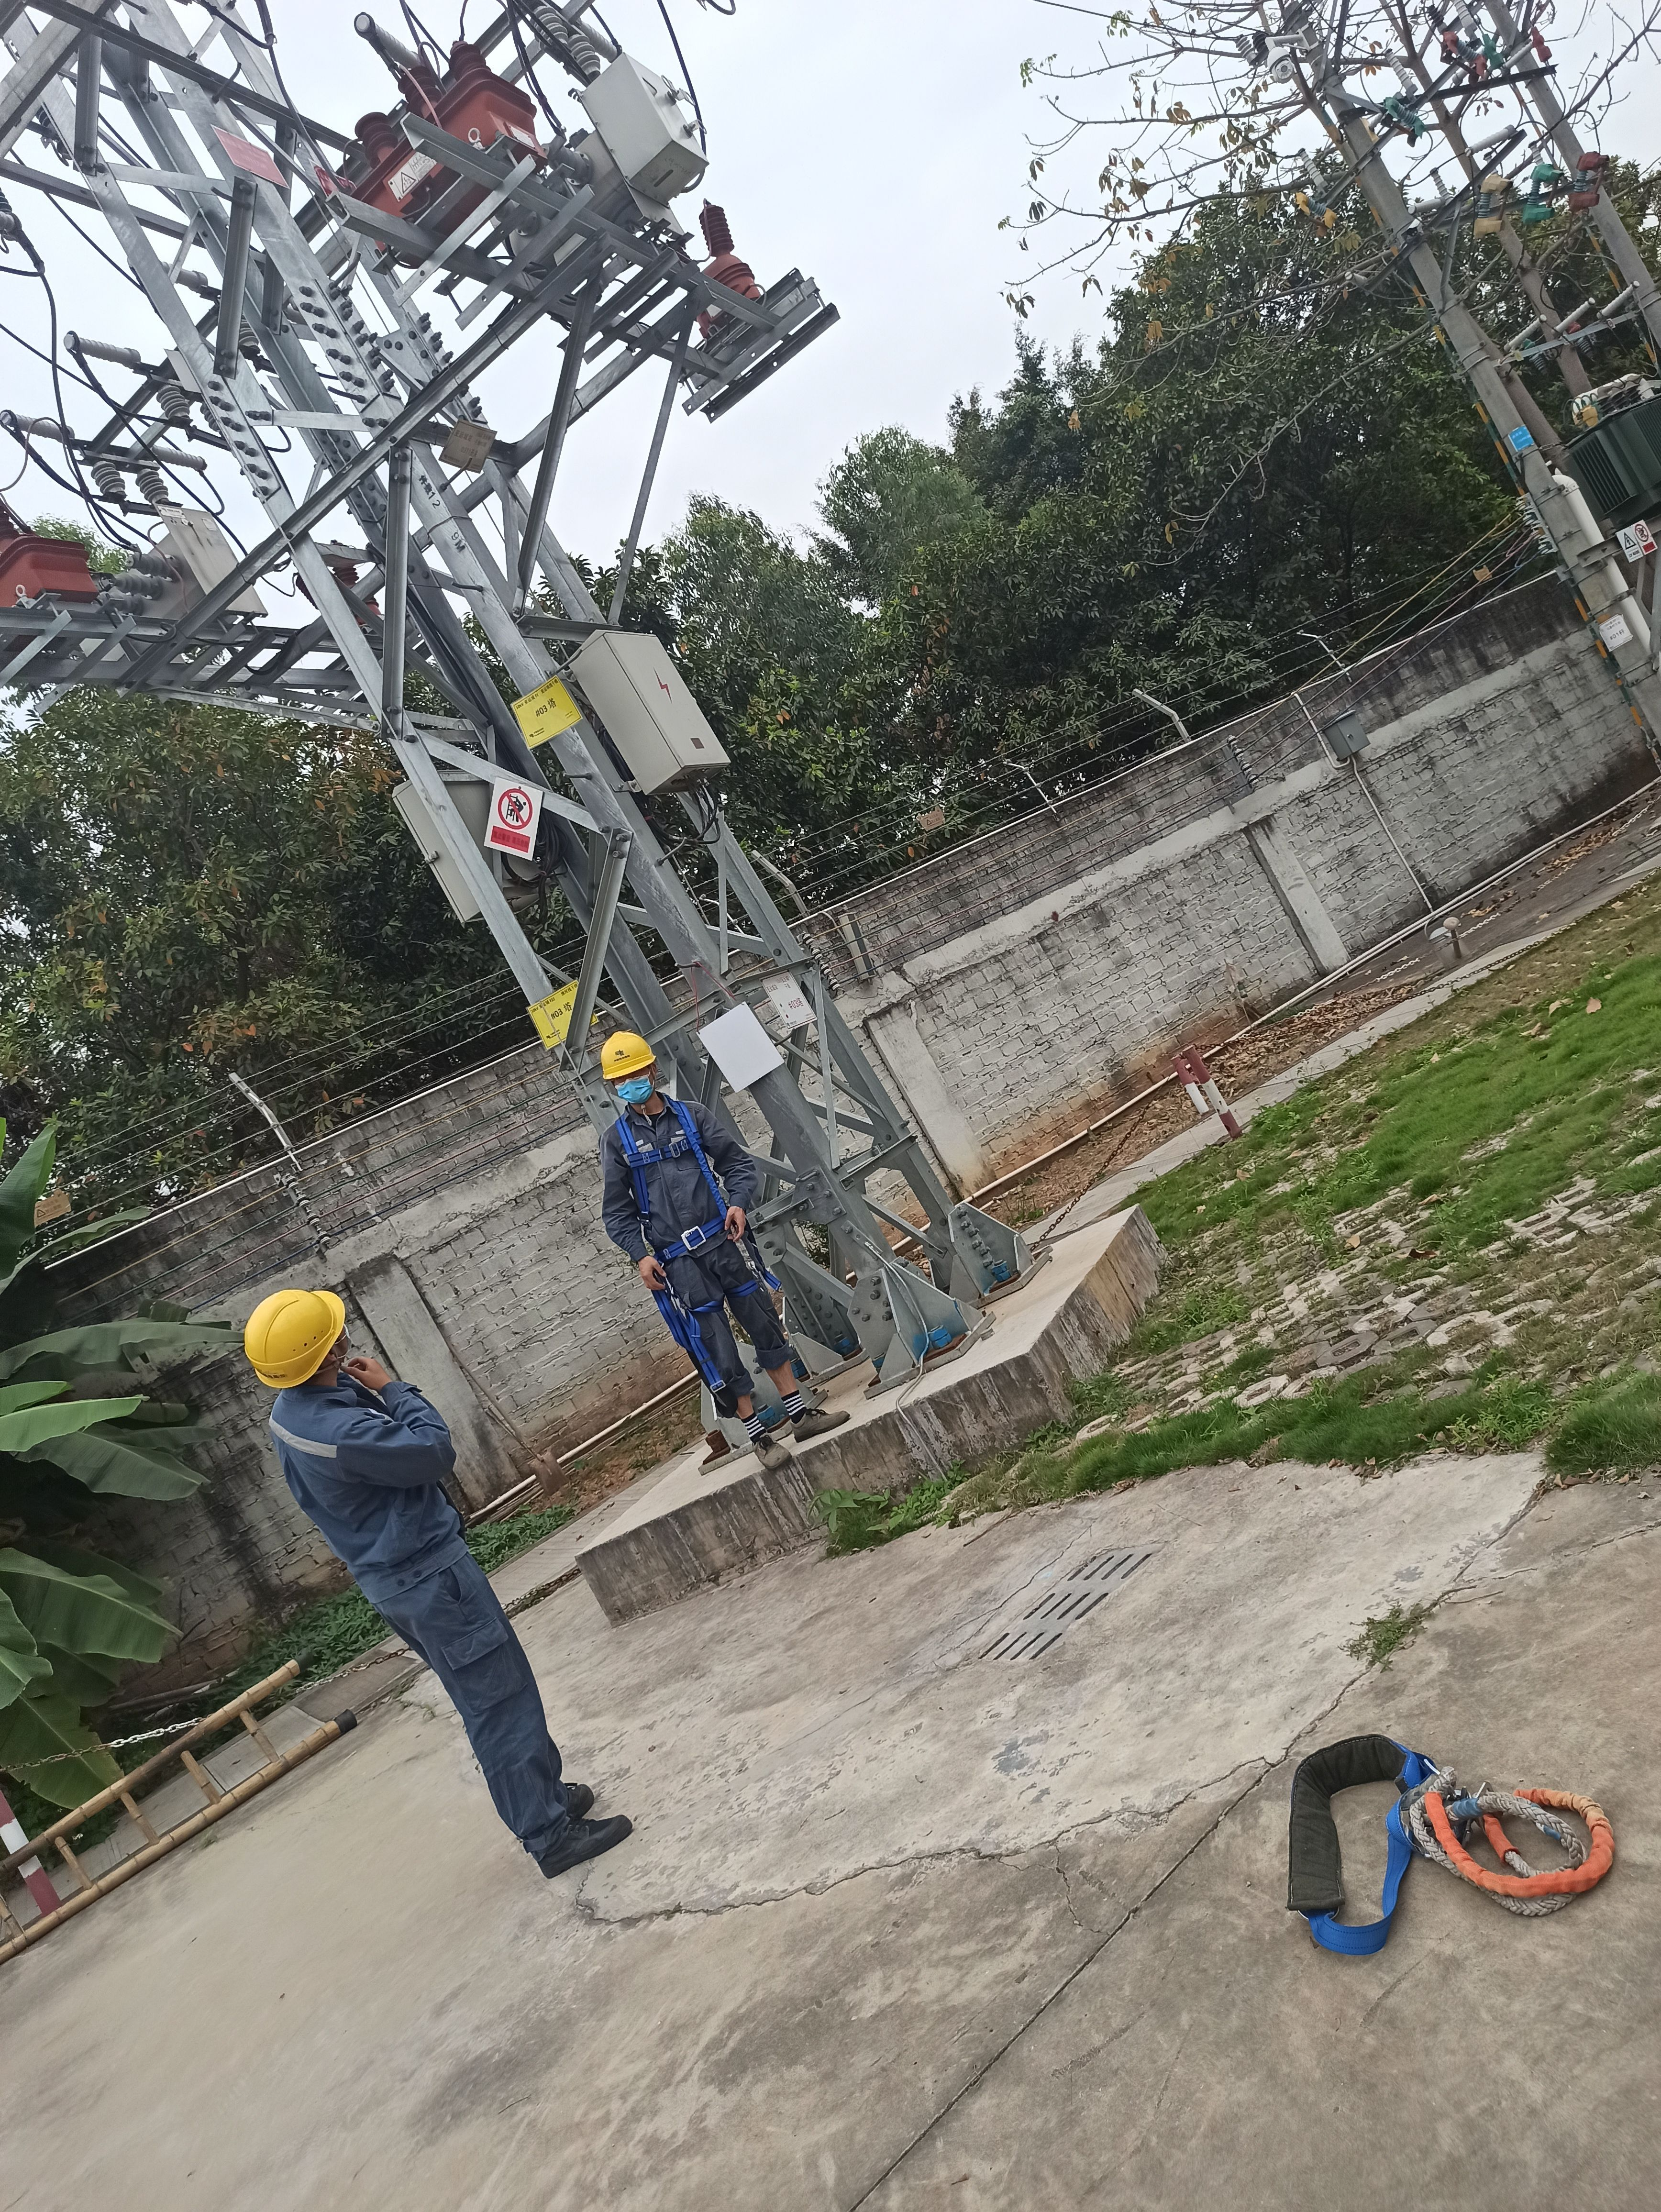downsuit: (375, 1563, 567, 1842), (669, 1237, 785, 1386)
halt: (240, 1287, 348, 1394), (597, 1030, 657, 1106)
hand: (347, 1354, 387, 1388), (638, 1254, 669, 1293), (723, 1206, 747, 1243)
person: (233, 1283, 603, 1876), (587, 1023, 812, 1457)
safebelt: (599, 1091, 772, 1389)
upsuit: (264, 1382, 463, 1573), (605, 1106, 716, 1247)
wrongbottom: (763, 1341, 800, 1406), (721, 1366, 759, 1431)
